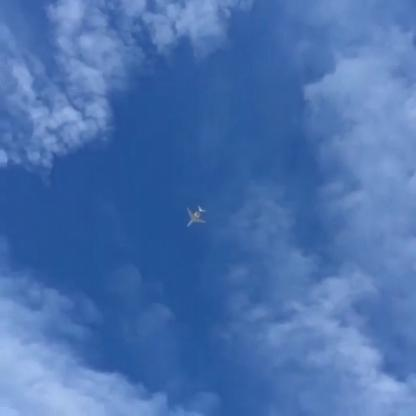aircraft: (185, 206, 208, 227)
